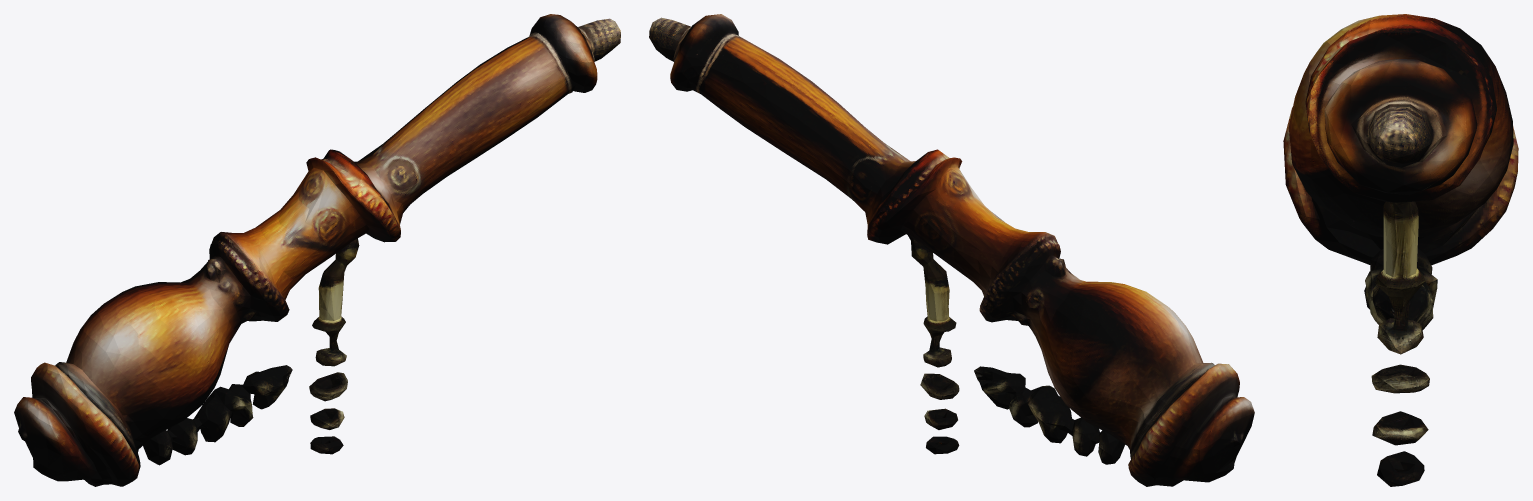
The model's file is wooden-corkscrew-handle-vintage.jpeg.glb.
The picture shows the model from 3 angles, left to right: view 1: azimuth 30°, elevation 25°; view 2: azimuth 150°, elevation 25°; view 3: azimuth 270°, elevation 25°; orthographic projection. The views are drawn at different scales.
Parts seen in each view (by area): view 1: world; view 2: world; view 3: world.
Part boxes in pixels (x1,y1,x2,y2): world: (14, 14, 620, 486); world: (649, 14, 1254, 486); world: (1283, 14, 1518, 486).
Size of the model in its own units: 1 by 0.6066 by 0.2156.
1 material, 1 textured.
